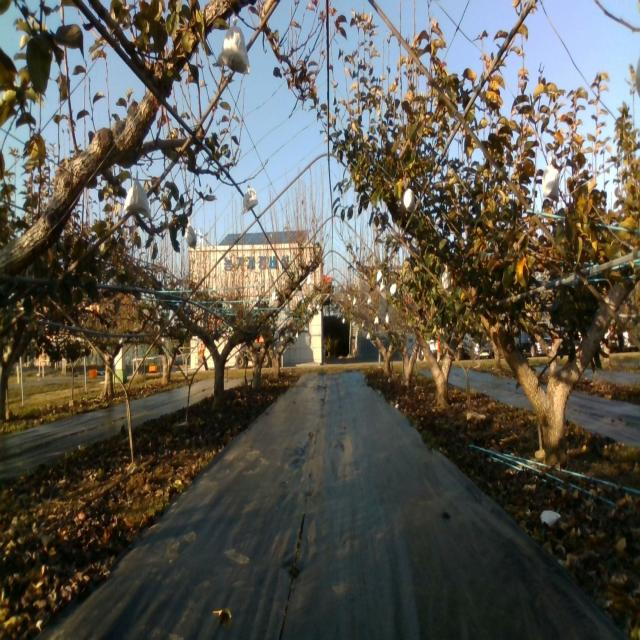pearbags: (217, 17, 251, 77), (124, 180, 150, 218), (542, 166, 559, 202), (242, 184, 259, 217), (401, 188, 415, 216), (185, 219, 197, 249)
